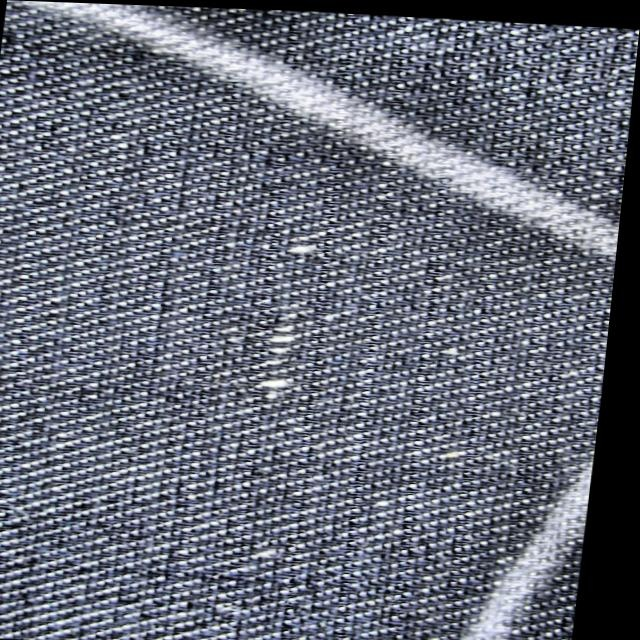Hole: (261, 319, 297, 398)
